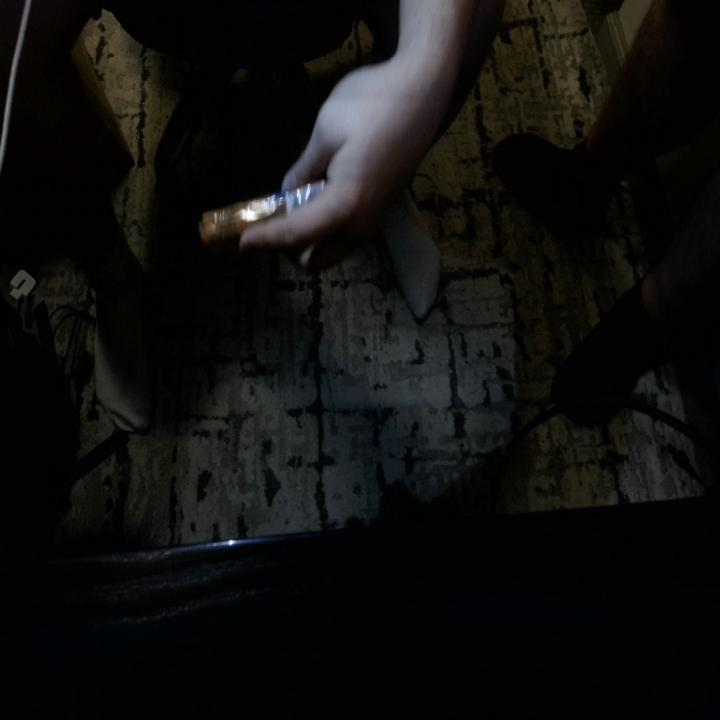Crackers: (195, 180, 369, 250)
